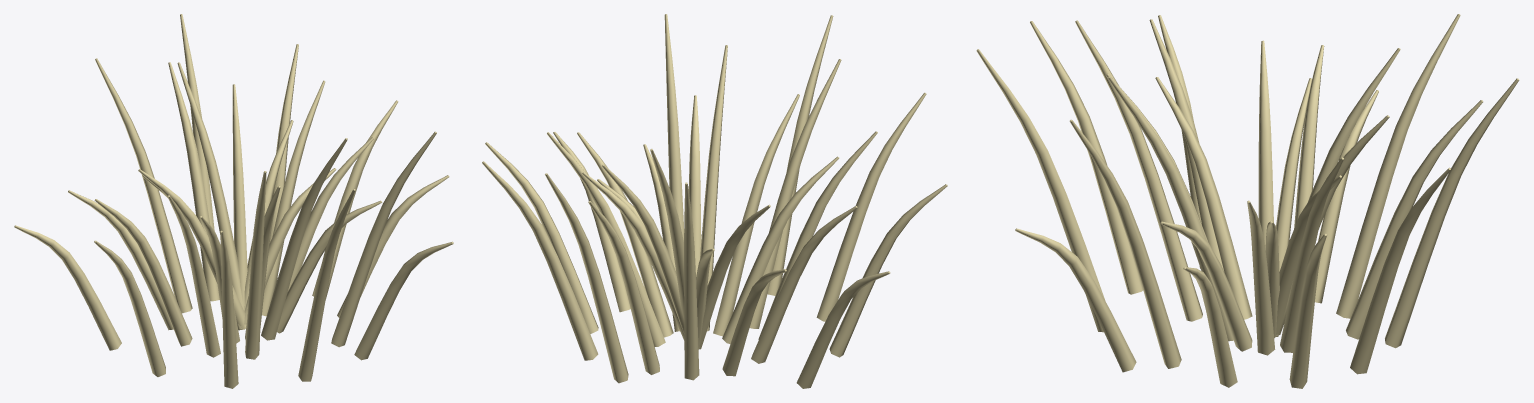
The model's file is savanna-wildlife-dry-grass-tussock-0dc184e8__6563.glb.
3 views of the same model, side by side, from view 1: azimuth 30°, elevation 25°; view 2: azimuth 150°, elevation 25°; view 3: azimuth 270°, elevation 25° (orthographic). The views are drawn at different scales.
Parts seen in each view (by area): view 1: dry-grass-tussock; view 2: dry-grass-tussock; view 3: dry-grass-tussock.
Part boxes in pixels (bbox=[...]): dry-grass-tussock: bbox=[14, 14, 453, 388]; dry-grass-tussock: bbox=[482, 14, 947, 388]; dry-grass-tussock: bbox=[976, 14, 1519, 388].
Bounding box in the file's own units: 1.04 × 0.5991 × 1.05.
